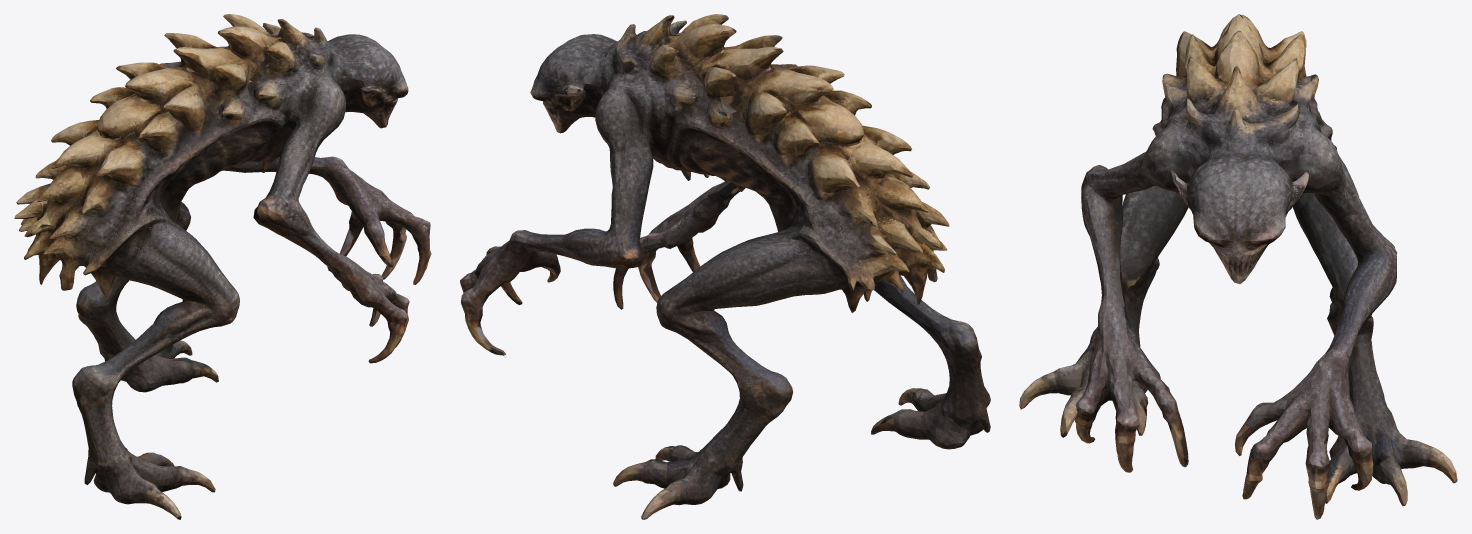
Rendered from foe_ghul.glb.
3 renders of one model, left to right at view 1: azimuth 30°, elevation 25°; view 2: azimuth 150°, elevation 25°; view 3: azimuth 270°, elevation 25°, orthographic. The views are drawn at different scales.
Visible parts, largest first — view 1: temp_mesh.ply; view 2: temp_mesh.ply; view 3: temp_mesh.ply.
Boxes of the visible parts, x1=… form: temp_mesh.ply: x1=14, y1=14, x2=431, y2=519; temp_mesh.ply: x1=460, y1=14, x2=990, y2=519; temp_mesh.ply: x1=1019, y1=14, x2=1457, y2=519.
Bounding box in the file's own units: 1.97 × 1.76 × 1.53.
Materials: 1 (1 with a texture image).
